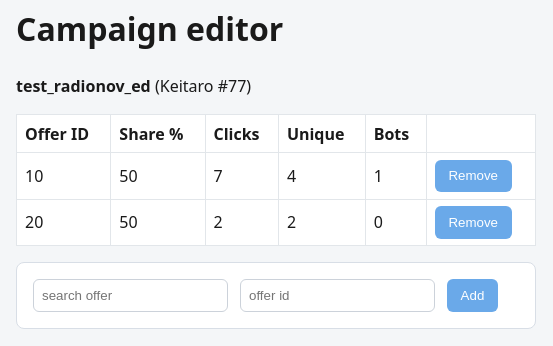
Test: EditorPage › removes an offer and updates stats row
The width and height of the screenshot is (553, 346).
Expected: the text "10" is shown, [16,153,111,199]
Expected: the text "20" is shown, [16,199,111,246]
Click the button "Remove" in the row of "20". click: (473, 222)
box: [435,206,512,239]
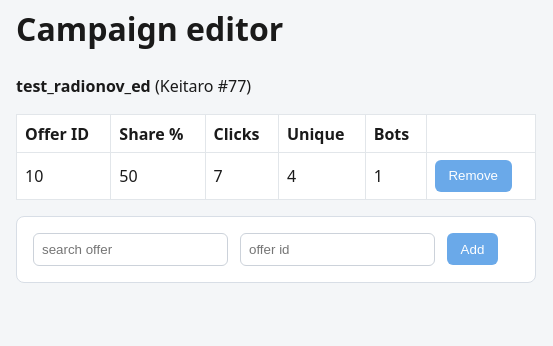
Expected: the text "7" is shown, [205,153,278,199]
Expected: the text "20" is gone
